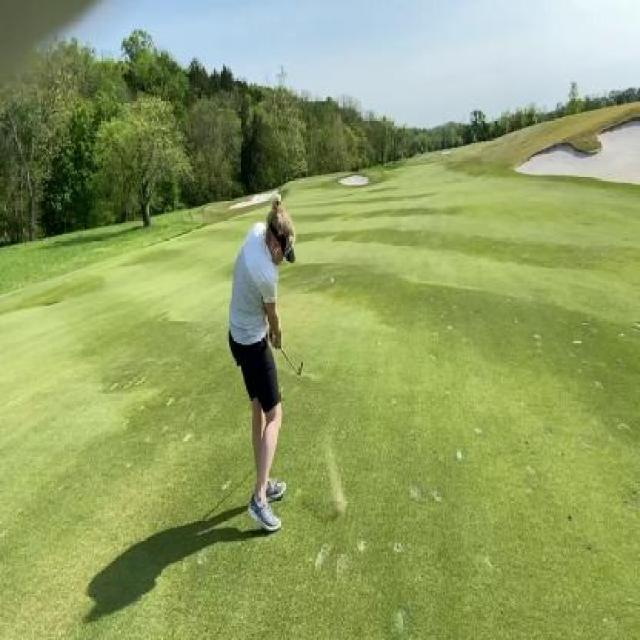club head: (292, 355, 306, 380)
